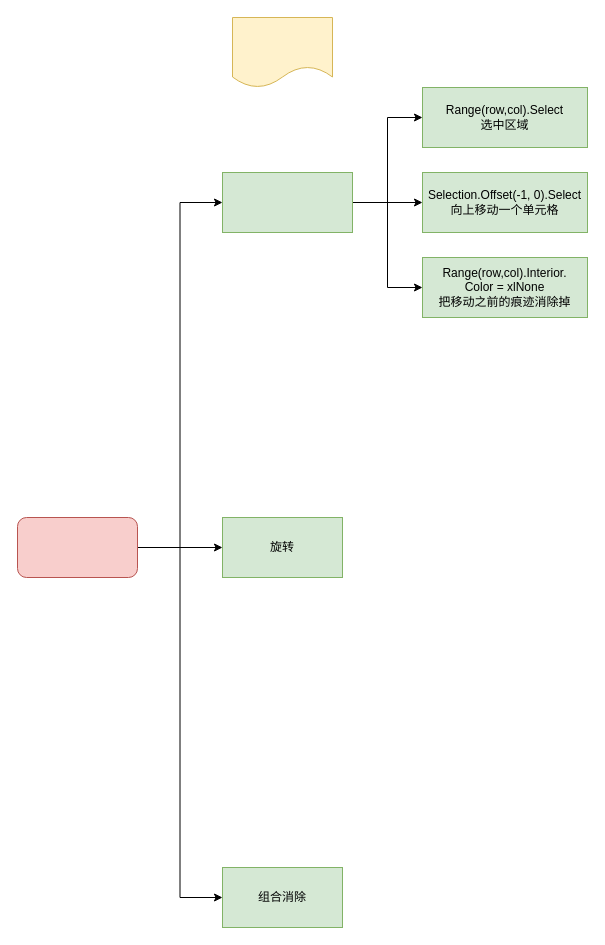
Some shapes in this 605 by 945 pixel diagram are drawn without their labels. The shapes that lost their labels are listed below. From the top down, each one's box as (x1, y1, x2, y2) in pixels, then its label:
(232, 16, 332, 88): 基本规则
(222, 172, 352, 232): 移动
(16, 516, 138, 578): 俄罗斯方块
